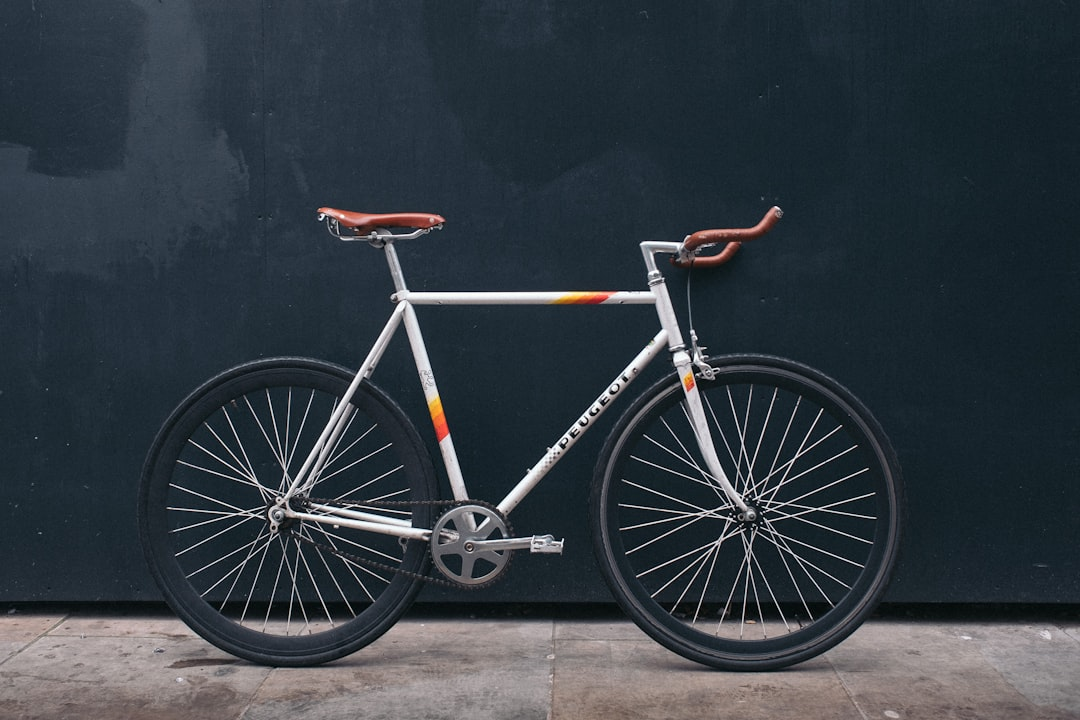bicycle: (142, 205, 913, 666)
